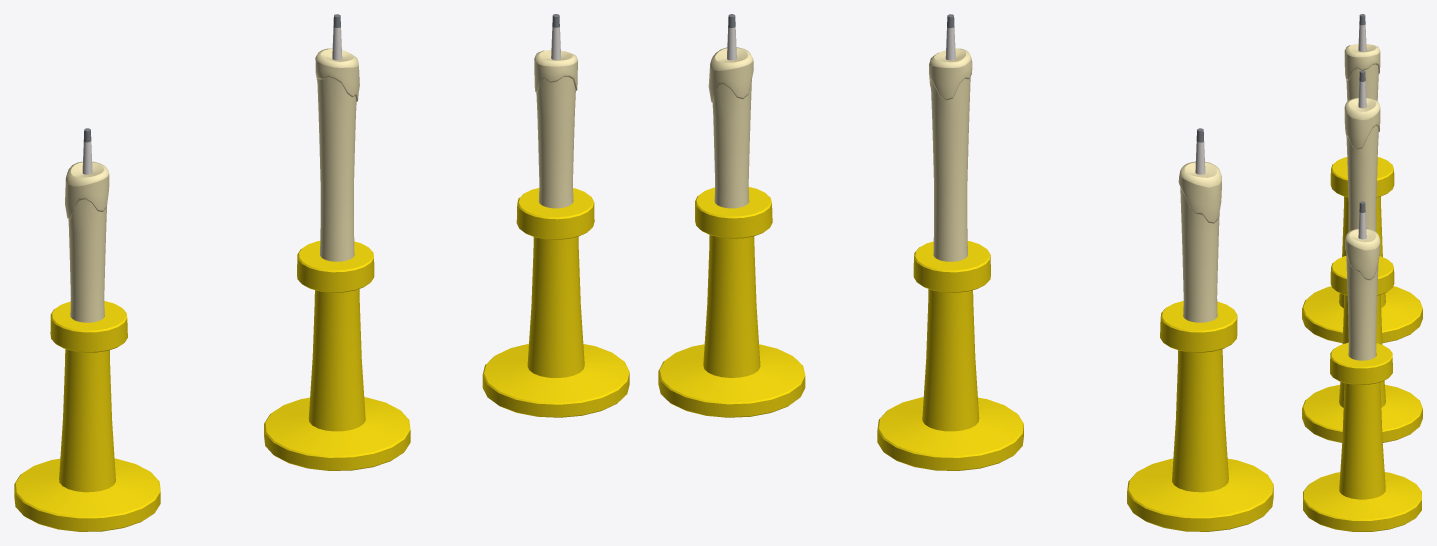
Rendered from Candles.fbx.
3 views of the same model, side by side, from view 1: azimuth 30°, elevation 25°; view 2: azimuth 150°, elevation 25°; view 3: azimuth 270°, elevation 25° (orthographic). The views are drawn at different scales.
Visible parts, largest first — view 1: Candles; view 2: Candles; view 3: Candles.
Part boxes in pixels (<box>): Candles: <box>14,14,629,531</box>; Candles: <box>658,14,1273,531</box>; Candles: <box>1302,14,1422,531</box>.
Size of the model in its own units: 0.717 by 0.4893 by 0.1537.
